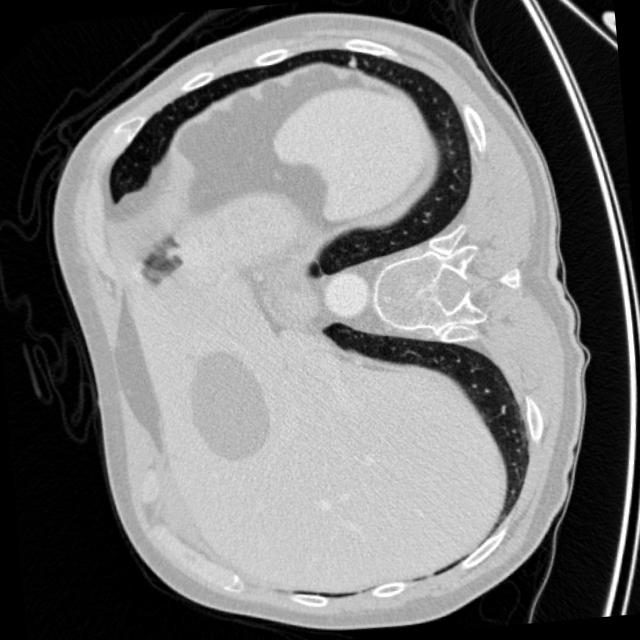nodule: (340, 52, 362, 74)
